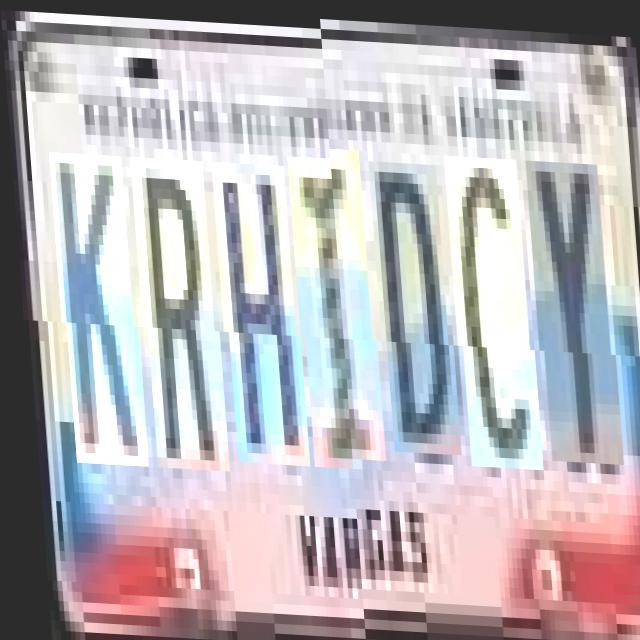C: (447, 160, 537, 474)
D: (372, 167, 456, 460)
H: (214, 160, 303, 462)
I: (290, 154, 380, 466)
K: (52, 152, 142, 465)
R: (133, 156, 223, 469)
Y: (529, 165, 618, 468)
